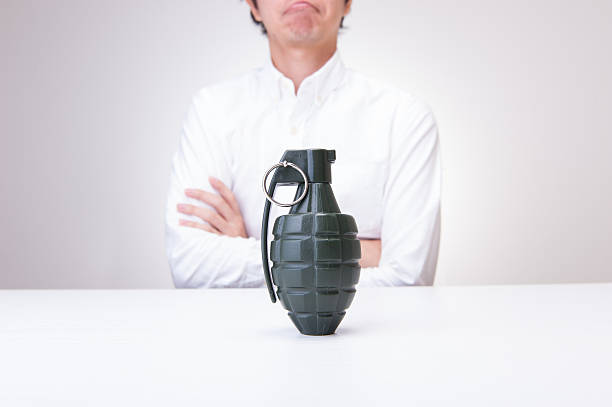e1: (261, 144, 364, 339)
